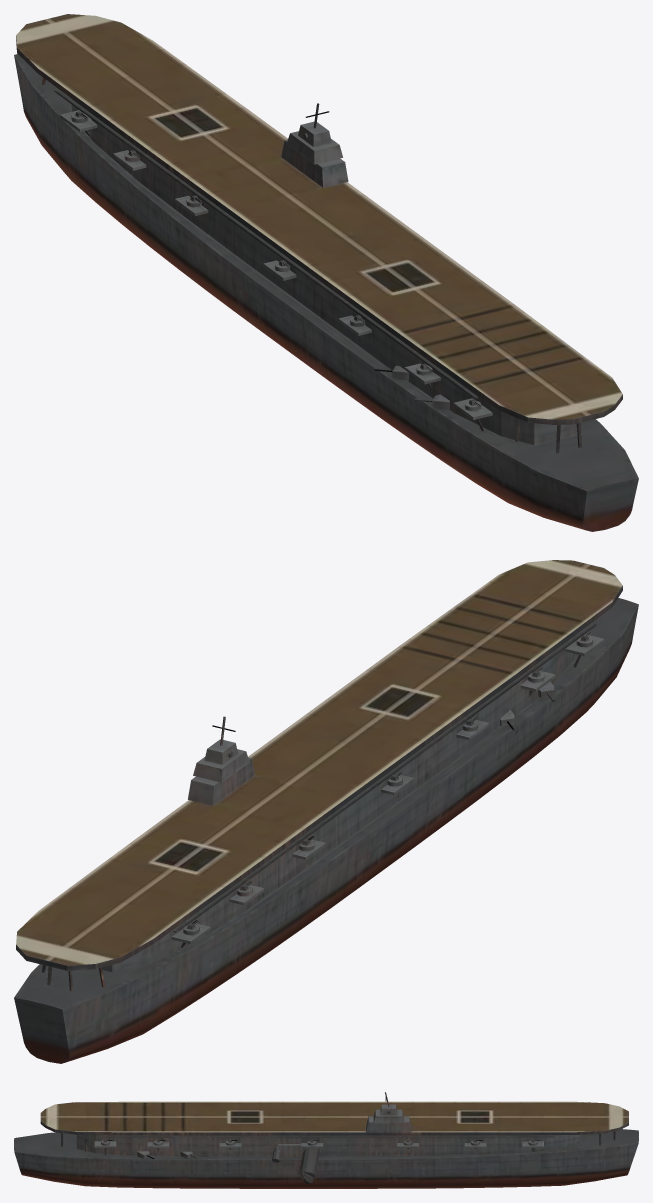
File: carrier_ijn_R_baked.glb
3 views of the same model, one above another, from view 1: azimuth 30°, elevation 25°; view 2: azimuth 150°, elevation 25°; view 3: azimuth 270°, elevation 25° (orthographic). The views are drawn at different scales.
Visible parts, largest first — view 1: carrier_ijn_R; view 2: carrier_ijn_R; view 3: carrier_ijn_R.
Boxes of the visible parts, x1,y1,x2,y2 form: carrier_ijn_R: (14, 14, 638, 531); carrier_ijn_R: (14, 560, 638, 1063); carrier_ijn_R: (14, 1092, 638, 1188).
Bounding box in the file's own units: 42.63 × 46.27 × 260.
Materials: 1 (1 with a texture image).
